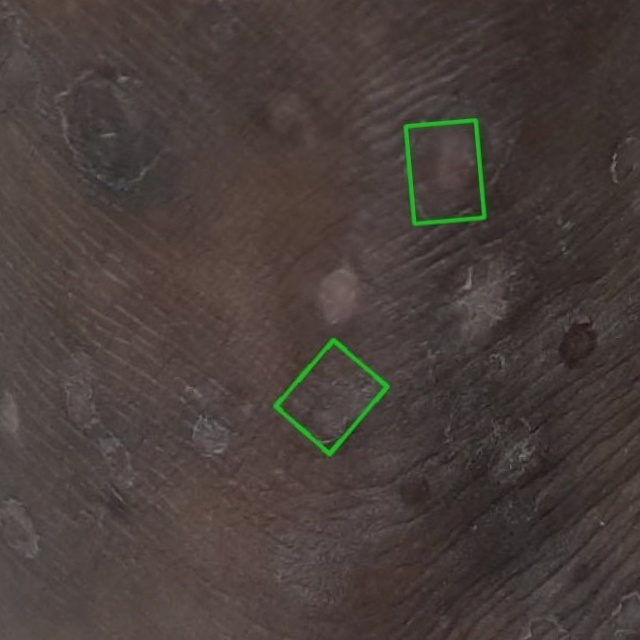Contact Dermatitis: (276, 340, 388, 453), (405, 120, 484, 223)
